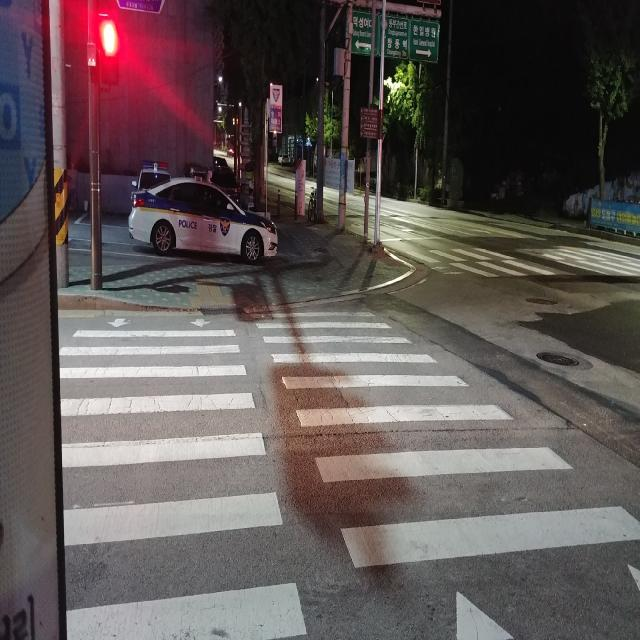빨간불: (100, 18, 117, 80)
횡단보도: (59, 308, 640, 639), (415, 246, 640, 275)
